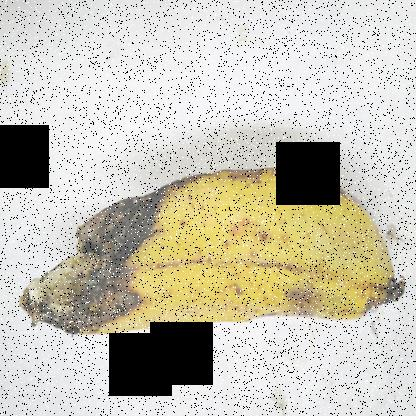rotten: (6, 135, 188, 341), (296, 266, 415, 332)
